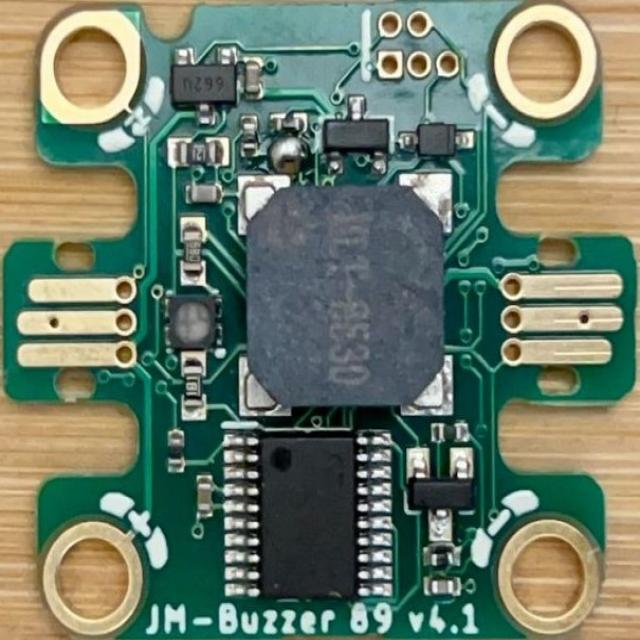4439: (168, 58, 242, 122), (404, 461, 472, 522), (322, 106, 392, 164)
IC: (244, 432, 380, 605)
buzzer: (245, 183, 442, 414)
capacitor 1V5: (192, 477, 223, 517), (424, 580, 458, 596)
diode -D1-: (417, 124, 458, 160)
resistor IR1: (182, 367, 206, 415), (182, 223, 202, 270), (181, 142, 219, 164), (276, 108, 304, 134), (430, 552, 462, 572), (171, 426, 186, 466), (242, 124, 253, 160)
